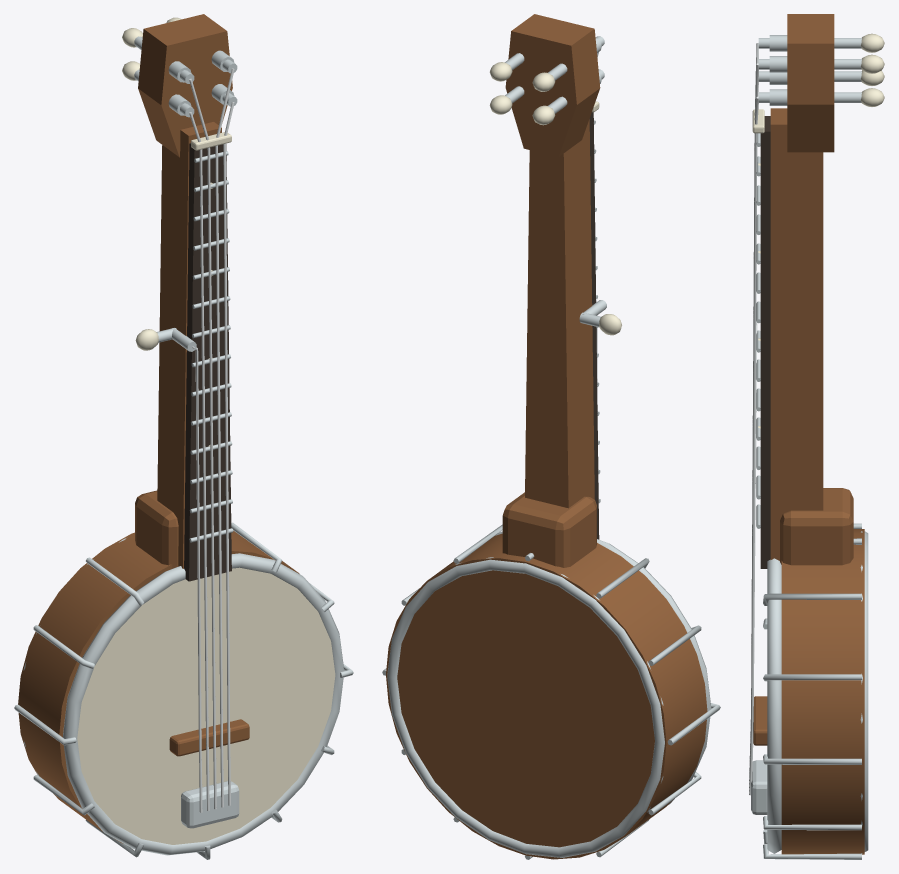
File: banjo.glb
3 renders of one model, left to right at view 1: azimuth 30°, elevation 25°; view 2: azimuth 150°, elevation 25°; view 3: azimuth 270°, elevation 25°, orthographic.
Visible parts, largest first — view 1: Banjo circular drum membrane, Banjo wooden resonator, Banjo dark fingerboard, Banjo tapered long neck, Banjo front tension hoop, Banjo flared headstock, Banjo neck heel, Banjo full-length string.002, Banjo full-length string.001, Banjo full-length string, Banjo full-length string.003, Banjo metal tailpiece (+2 smaller); view 2: Banjo wooden resonator, Banjo tapered long neck, Banjo rear resonator trim, Banjo flared headstock, Banjo neck heel, Banjo dark fingerboard, Banjo front tension hoop; view 3: Banjo wooden resonator, Banjo tapered long neck, Banjo flared headstock, Banjo dark fingerboard, Banjo neck heel, Banjo front tension hoop, Banjo full-length string.003, Banjo rear resonator trim, Banjo metal tailpiece, Banjo wooden string bridge, Banjo drum tension hook.002, Banjo drum tension hook (+15 smaller).
Part boxes in pixels (left/top/right/bottom): Banjo circular drum membrane: left=77, top=567, right=335, bottom=844; Banjo wooden resonator: left=18, top=531, right=299, bottom=843; Banjo dark fingerboard: left=184, top=143, right=231, bottom=581; Banjo tapered long neck: left=157, top=122, right=221, bottom=568; Banjo front tension hoop: left=63, top=553, right=344, bottom=855; Banjo flared headstock: left=138, top=14, right=232, bottom=157; Banjo neck heel: left=135, top=490, right=178, bottom=568; Banjo full-length string.002: left=215, top=68, right=234, bottom=807; Banjo full-length string.001: left=189, top=78, right=216, bottom=809; Banjo full-length string: left=189, top=112, right=209, bottom=810; Banjo full-length string.003: left=223, top=102, right=234, bottom=805; Banjo metal tailpiece: left=181, top=781, right=239, bottom=828; Banjo wooden resonator: left=386, top=533, right=707, bottom=859; Banjo tapered long neck: left=525, top=119, right=594, bottom=508; Banjo rear resonator trim: left=387, top=557, right=664, bottom=857; Banjo flared headstock: left=505, top=14, right=600, bottom=156; Banjo neck heel: left=502, top=492, right=596, bottom=567; Banjo dark fingerboard: left=589, top=112, right=599, bottom=539; Banjo front tension hoop: left=495, top=531, right=711, bottom=804; Banjo wooden resonator: left=781, top=529, right=864, bottom=854; Banjo tapered long neck: left=770, top=108, right=823, bottom=560; Banjo flared headstock: left=787, top=14, right=834, bottom=152; Banjo dark fingerboard: left=760, top=116, right=770, bottom=568; Banjo neck heel: left=780, top=488, right=853, bottom=565; Banjo front tension hoop: left=767, top=558, right=781, bottom=853; Banjo full-length string.003: left=749, top=96, right=758, bottom=795; Banjo rear resonator trim: left=860, top=531, right=868, bottom=853; Banjo metal tailpiece: left=751, top=760, right=767, bottom=814; Banjo wooden string bridge: left=753, top=696, right=767, bottom=745; Banjo drum tension hook.002: left=763, top=593, right=861, bottom=605; Banjo drum tension hook: left=763, top=754, right=861, bottom=764.
Bounding box in the file's own units: 0.367 × 0.978 × 0.1475.
